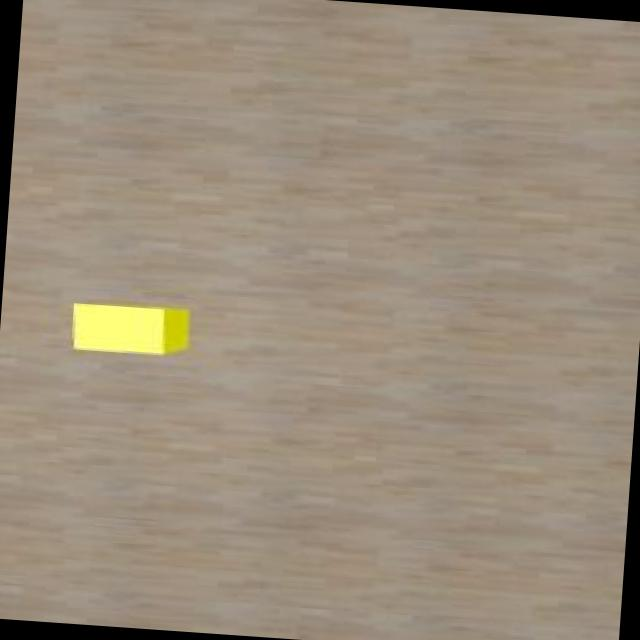cube-cAb5: (67, 300, 190, 358)
